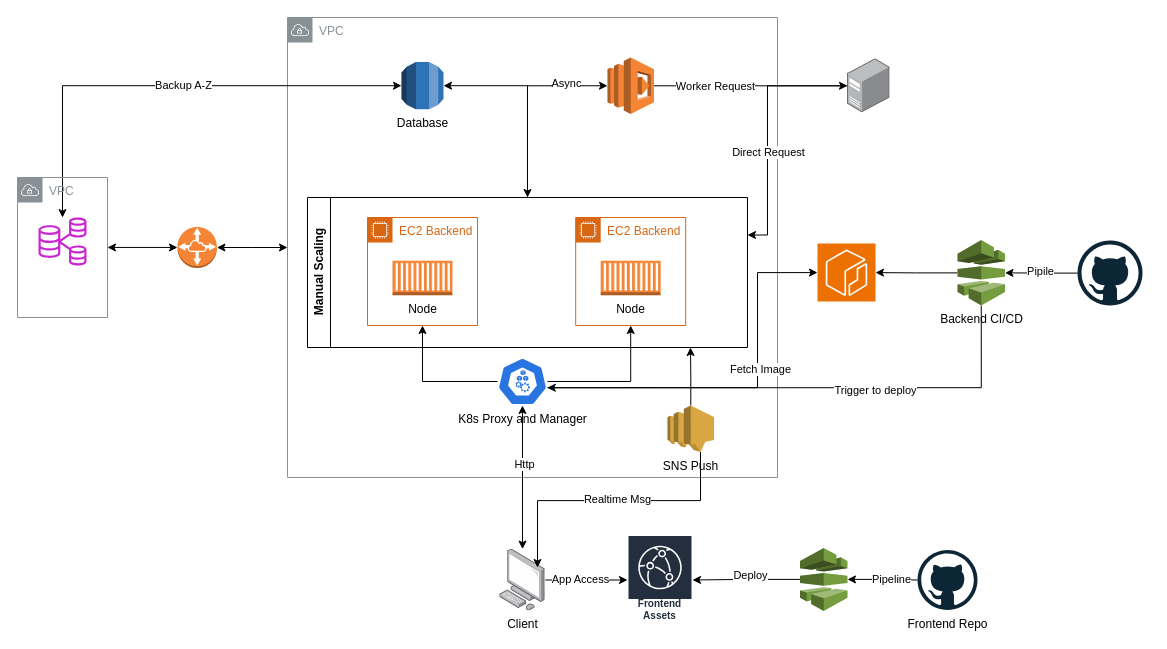
Some shapes in this 1167 by 649 pixel diagram are drawn without their labels. Here are the shapes that lost their labels. From the top down, the box of each, then its label:
(606, 56, 654, 114): Workers
(847, 58, 890, 112): 3-Party Support
(38, 217, 86, 265): Multi Clster A-Z
(176, 226, 217, 268): Peering
(816, 243, 876, 302): Backend Container Service
(1076, 240, 1142, 306): Backend Repo
(799, 547, 848, 611): Frontend CI/CD
